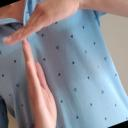hand: (1, 0, 79, 45), (19, 39, 58, 128)
